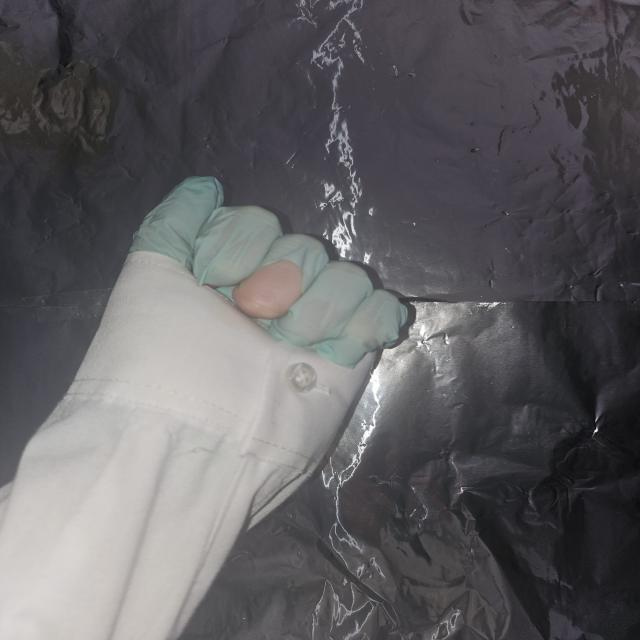gloves_damaged: (126, 172, 422, 371)
